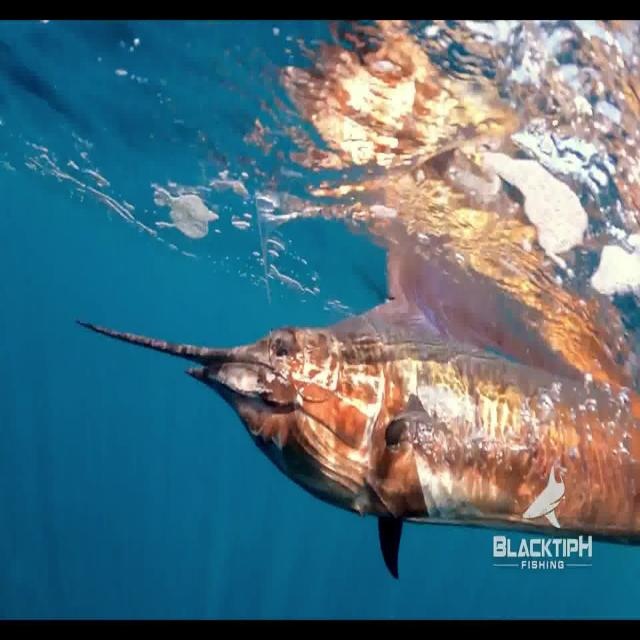Sail Fish: (74, 290, 640, 580)
